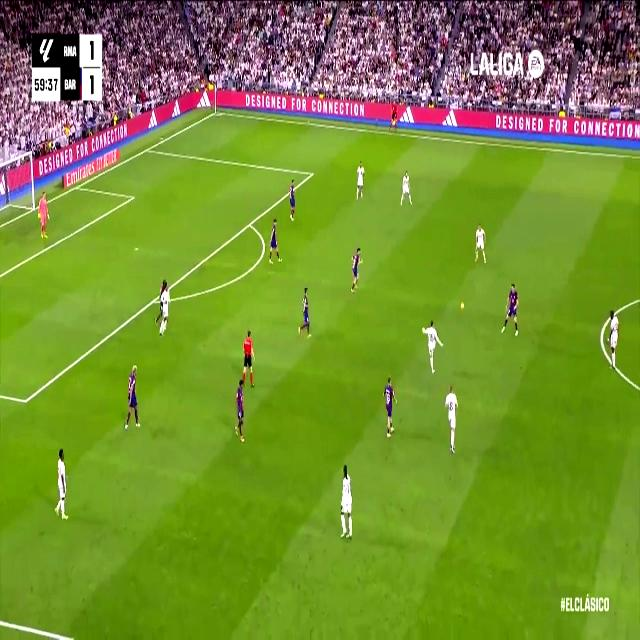bigarea_bottom_inner: (20, 389, 30, 412)
bigarea_top_inner: (309, 167, 314, 180)
bigarea_top_outter: (144, 142, 152, 155)
bottom_arc_area_intersection: (150, 290, 160, 308)
corner: (212, 106, 220, 116)
smallarea_top_inner: (130, 192, 135, 202)
top_arc_area_intersection: (246, 215, 254, 231)
